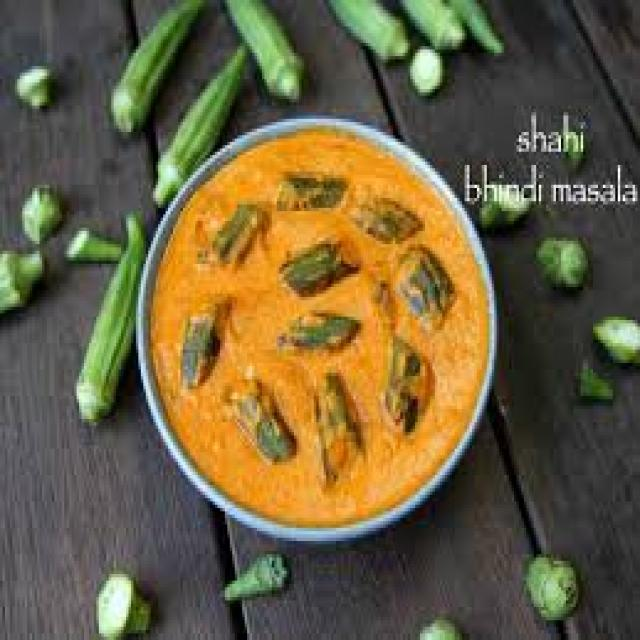Bhindi Masala: (146, 118, 488, 533)
